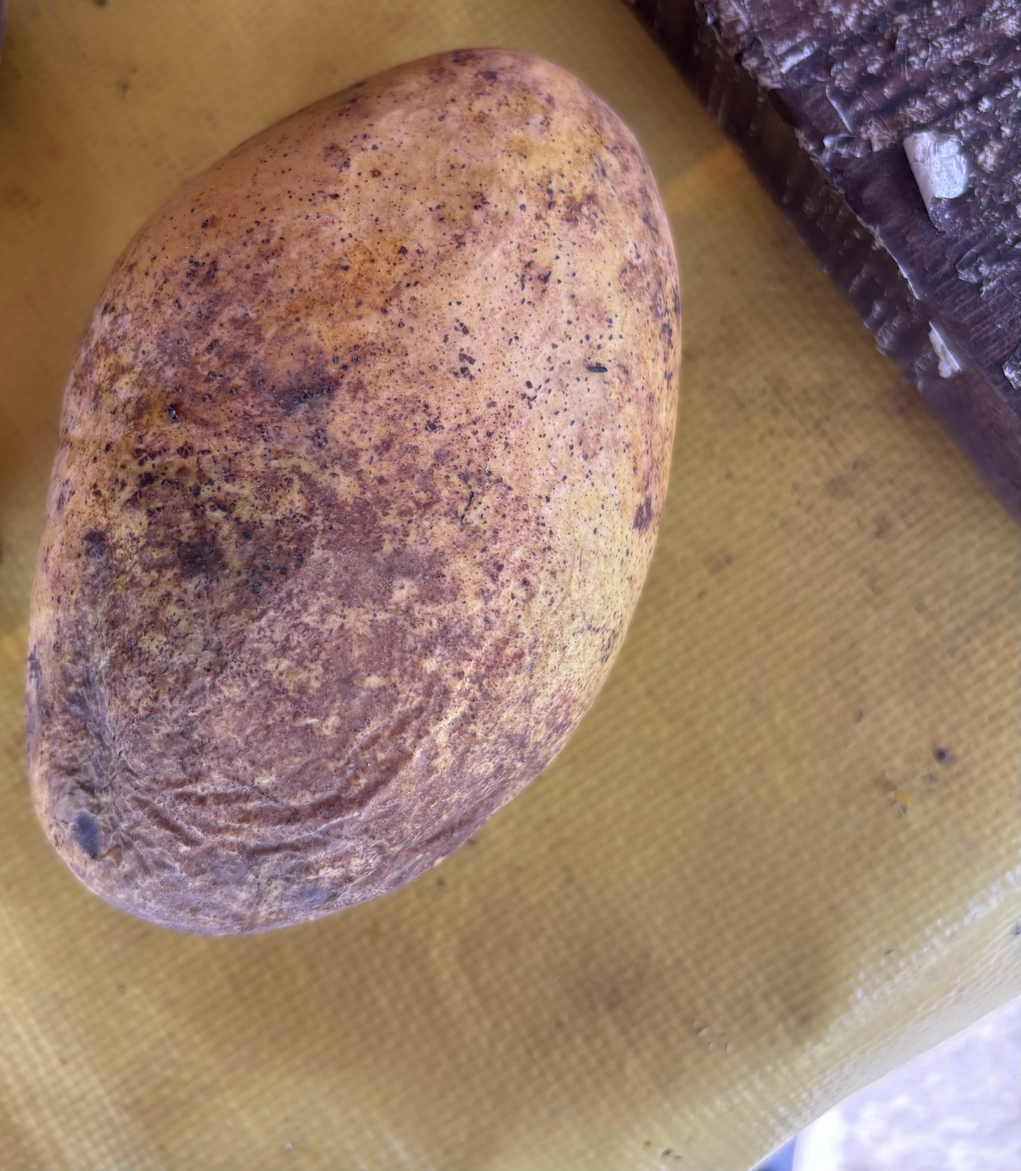mango: (27, 49, 680, 933)
